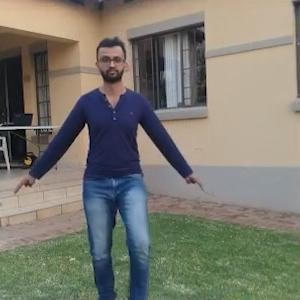land: (19, 33, 212, 296)
